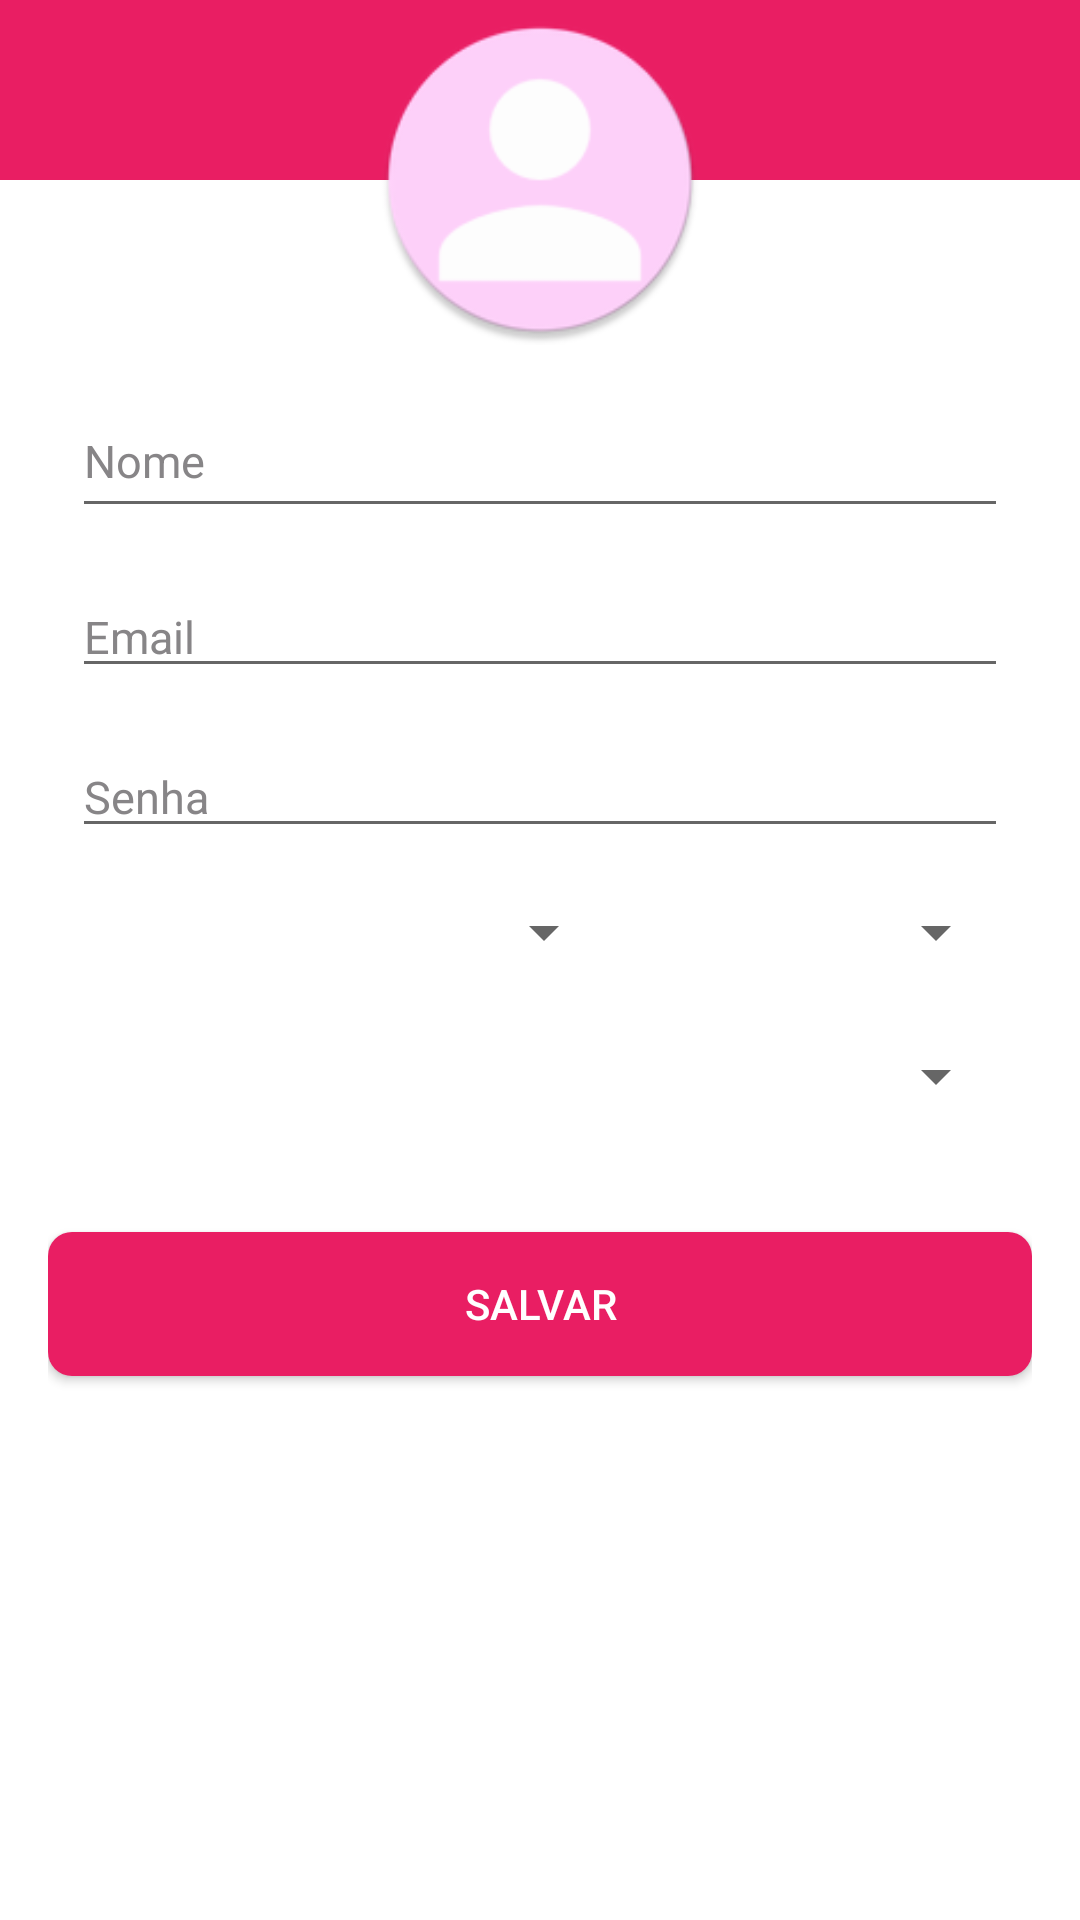

Screen size 1080x1920. Icon name, then its center in pixels as (x,y):
perfil: (540,180)
